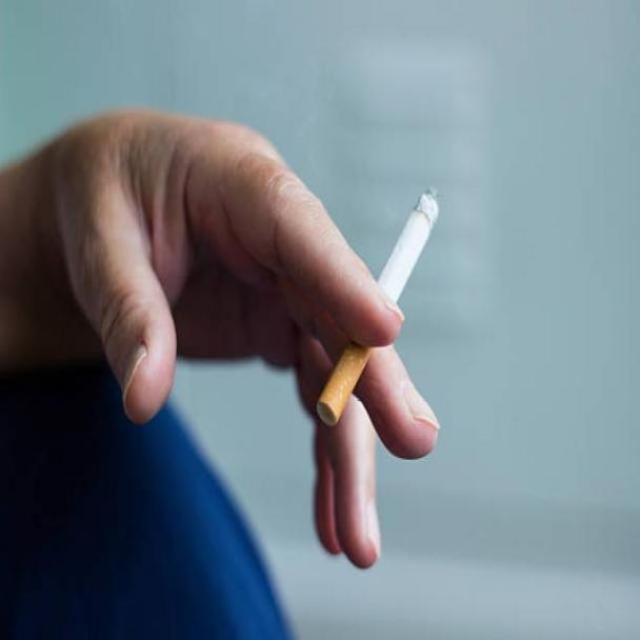rokok: (313, 182, 445, 428)
